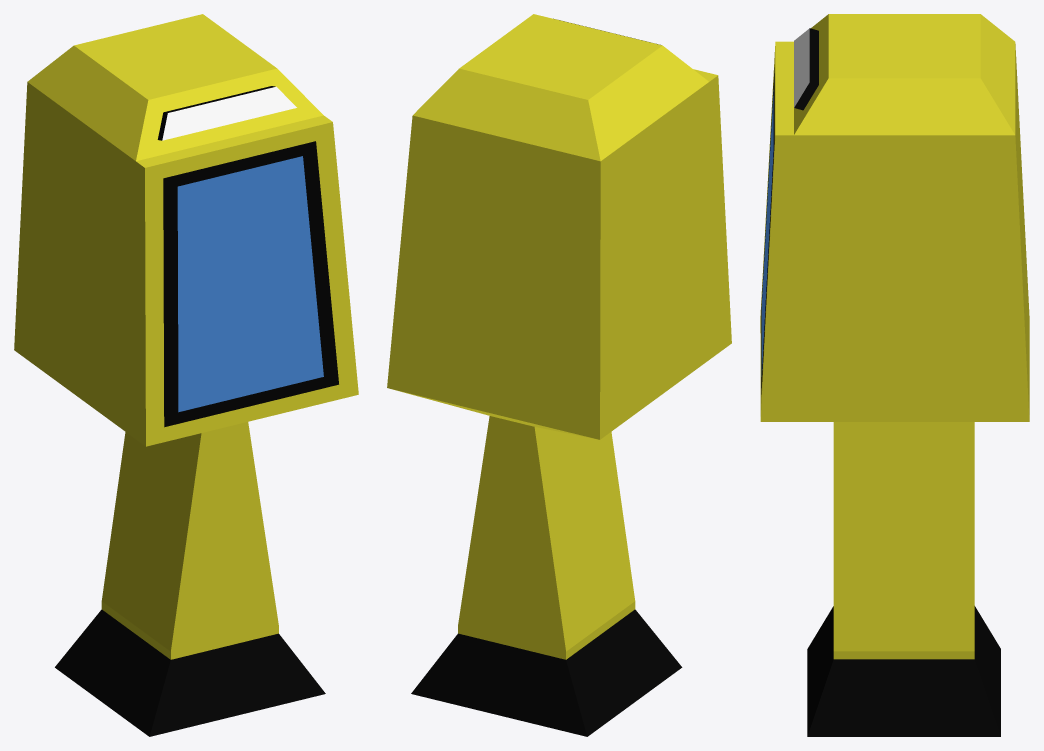
File: newsstand.fbx
3 views of the same model, side by side, from view 1: azimuth 30°, elevation 25°; view 2: azimuth 150°, elevation 25°; view 3: azimuth 270°, elevation 25° (orthographic). The views are drawn at different scales.
Visible parts, largest first — view 1: newsstand; view 2: newsstand; view 3: newsstand.
Part boxes in pixels (x1,y1,x2,y2): newsstand: [14, 14, 358, 736]; newsstand: [387, 14, 731, 736]; newsstand: [760, 14, 1029, 736].
Bounding box in the file's own units: 121 × 340 × 130.
